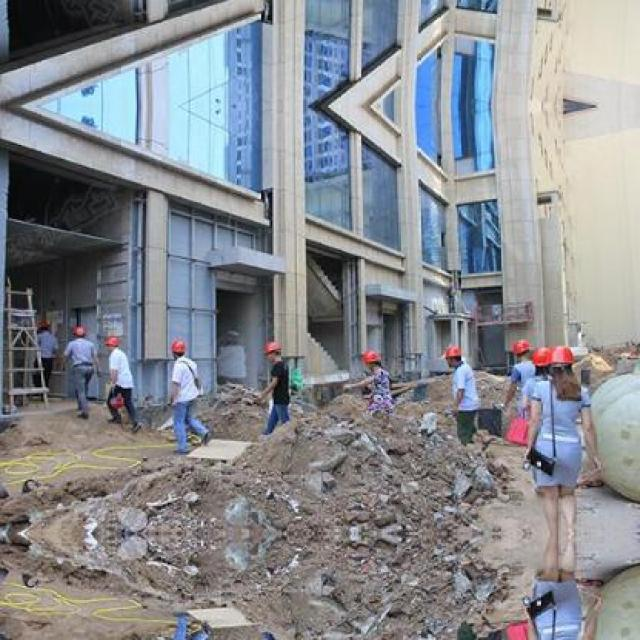helmet: (548, 344, 572, 373), (441, 344, 464, 367), (534, 345, 555, 369), (260, 339, 282, 360), (362, 348, 383, 369), (510, 338, 530, 358), (167, 339, 184, 357), (100, 334, 118, 348), (34, 318, 49, 332), (71, 324, 86, 338)
